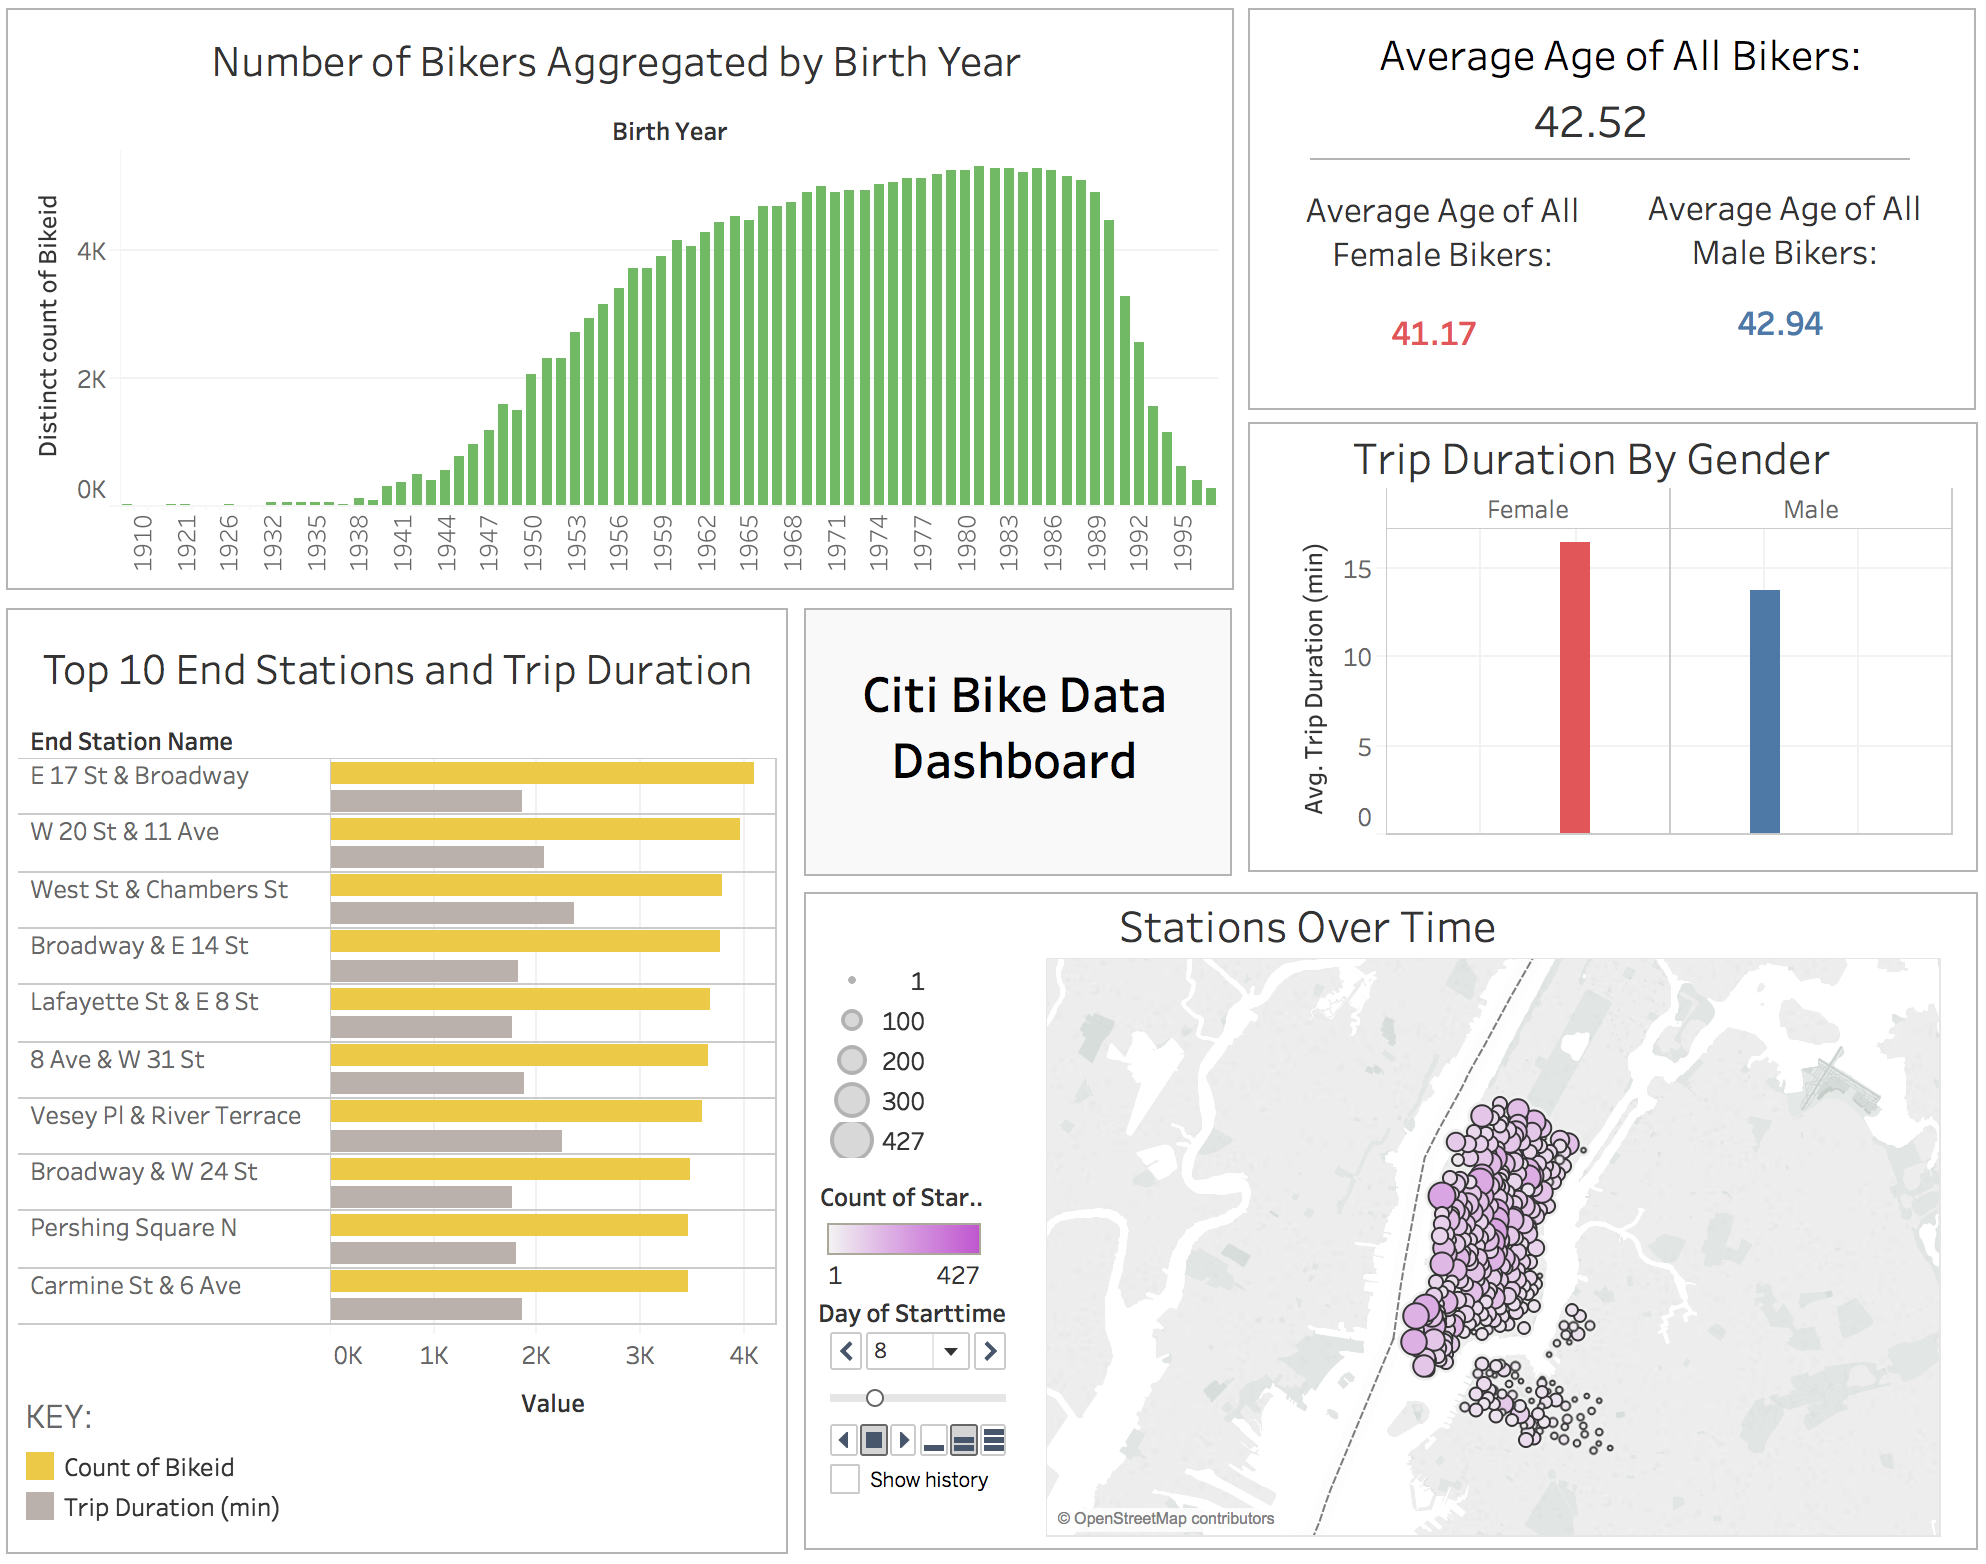

What the dashboard file says about the page in this screenshot:
{"tool":"tableau","page":{"name":"Dashboard 1","canvas":[1000,800],"ordinal":0},"visuals":[{"type":"text","box":[9,12,614,291]},{"type":"text","box":[630,12,364,201]},{"type":"text","box":[650,19,333,33]},{"type":"worksheet","title":"Birth Year of Bikers","mark":"Automatic","rows":["bikeid"],"cols":["birth year"],"box":[14,20,601,275]},{"type":"worksheet","title":"Average Age of Bikers","mark":"Automatic","box":[760,41,74,53]},{"type":"text","box":[661,87,300,1]},{"type":"text","box":[643,94,169,60]},{"type":"text","box":[827,100,143,46]},{"type":"worksheet","title":"Average Age of Bikers M","mark":"Automatic","box":[862,143,93,57]},{"type":"worksheet","title":"Average Age of Bikers F","mark":"Automatic","box":[689,148,85,44]},{"type":"text","box":[680,207,283,58]},{"type":"text","box":[630,219,365,225]},{"type":"worksheet","title":"Trip Time by Gender","mark":"Bar","rows":["Calculation_556053846021046277"],"cols":["Gender (copy)","gender"],"box":[647,252,336,174]},{"type":"text","box":[9,312,391,473]},{"type":"blank","box":[408,312,214,134]},{"type":"worksheet","title":"Top 10 Stations","mark":"Automatic","rows":["end station name"],"box":[15,324,380,402]},{"type":"text","box":[434,338,159,66]},{"type":"blank","box":[408,454,587,329]},{"type":"text","box":[528,455,264,30]},{"type":"worksheet","title":"Stations Over Time","mark":"Automatic","rows":["start station latitude"],"cols":["start station longitude"],"box":[529,487,448,290]},{"type":"legend","title":"Stations Over Time","param":"[federated.0wfmsos0cifumd145jvmp0tfvo1m].[cnt:start station name:qk]","box":[418,488,87,164]},{"type":"legend","title":"Stations Over Time","param":"[federated.0wfmsos0cifumd145jvmp0tfvo1m].[cnt:start station name:qk]","box":[416,598,85,94]},{"type":"currpage","title":"Stations Over Time","box":[415,656,100,120]},{"type":"text","box":[16,701,100,30]}]}

Visuals, with their boxes in screenshot pixels (x1, y1, x2, y2), scaled from the page's 1000x800 canvas onto the 1986x1564 screenshot:
text: 18:23:1237:592
text: 1251:23:1974:416
text: 1291:37:1952:102
"Birth Year of Bikers" worksheet: 28:39:1221:577
"Average Age of Bikers" worksheet: 1509:80:1656:184
text: 1313:170:1909:172
text: 1277:184:1613:301
text: 1642:196:1926:285
"Average Age of Bikers M" worksheet: 1712:280:1897:391
"Average Age of Bikers F" worksheet: 1368:289:1537:375
text: 1350:405:1913:518
text: 1251:428:1976:868
"Trip Time by Gender" worksheet (Bar marks): 1285:493:1952:833
text: 18:610:794:1535
blank: 810:610:1235:872
"Top 10 Stations" worksheet: 30:633:784:1419
text: 862:661:1178:790
blank: 810:888:1976:1531
text: 1049:890:1573:948
"Stations Over Time" worksheet: 1051:952:1940:1519
"Stations Over Time" legend: 830:954:1003:1275
"Stations Over Time" legend: 826:1169:995:1353
"Stations Over Time" currpage: 824:1282:1023:1517
text: 32:1370:230:1429
